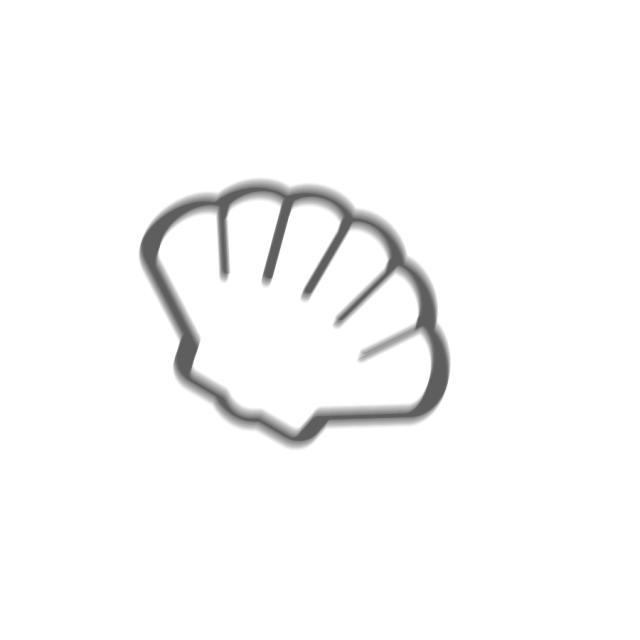shell: (132, 171, 457, 456)
